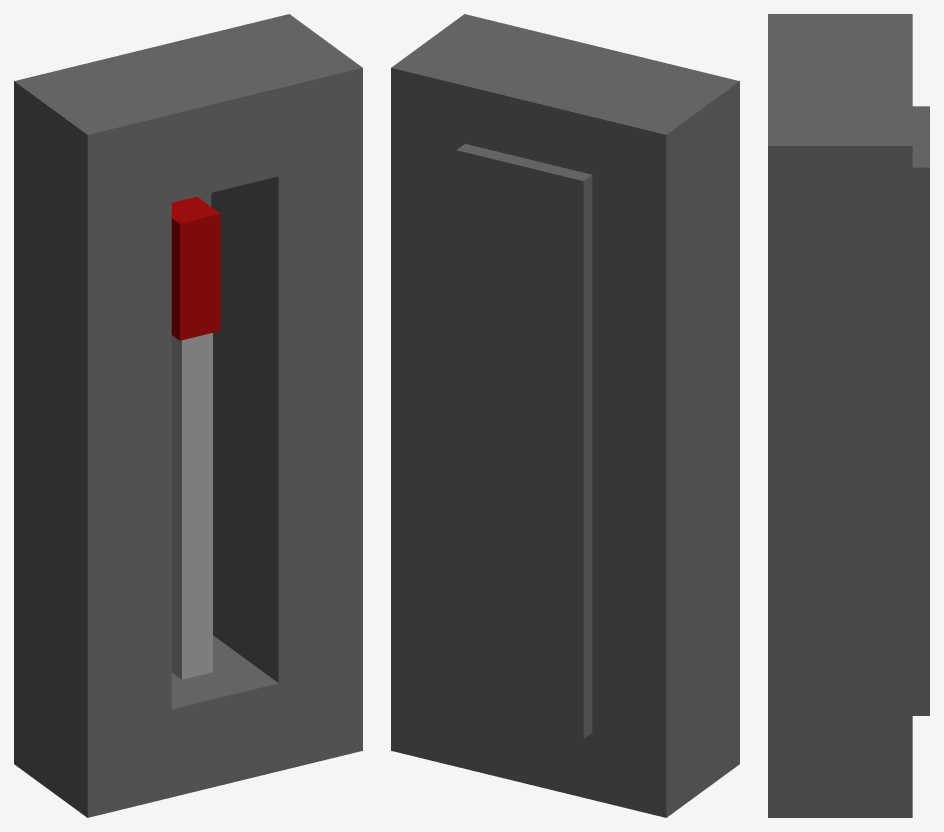
Rendered from Lever.fbx.
3 renders of one model, left to right at view 1: azimuth 30°, elevation 25°; view 2: azimuth 150°, elevation 25°; view 3: azimuth 270°, elevation 25°, orthographic.
Visible parts, largest first — view 1: Wall_Mount, Lever; view 2: Wall_Mount; view 3: Wall_Mount.
Part boxes in pixels (left/top/right/bottom): Wall_Mount: left=14, top=14, right=362, bottom=817; Lever: left=171, top=196, right=220, bottom=679; Wall_Mount: left=391, top=14, right=739, bottom=817; Wall_Mount: left=768, top=14, right=929, bottom=817.
Bounding box in the file's own units: 2.16 × 5.13 × 1.12.
